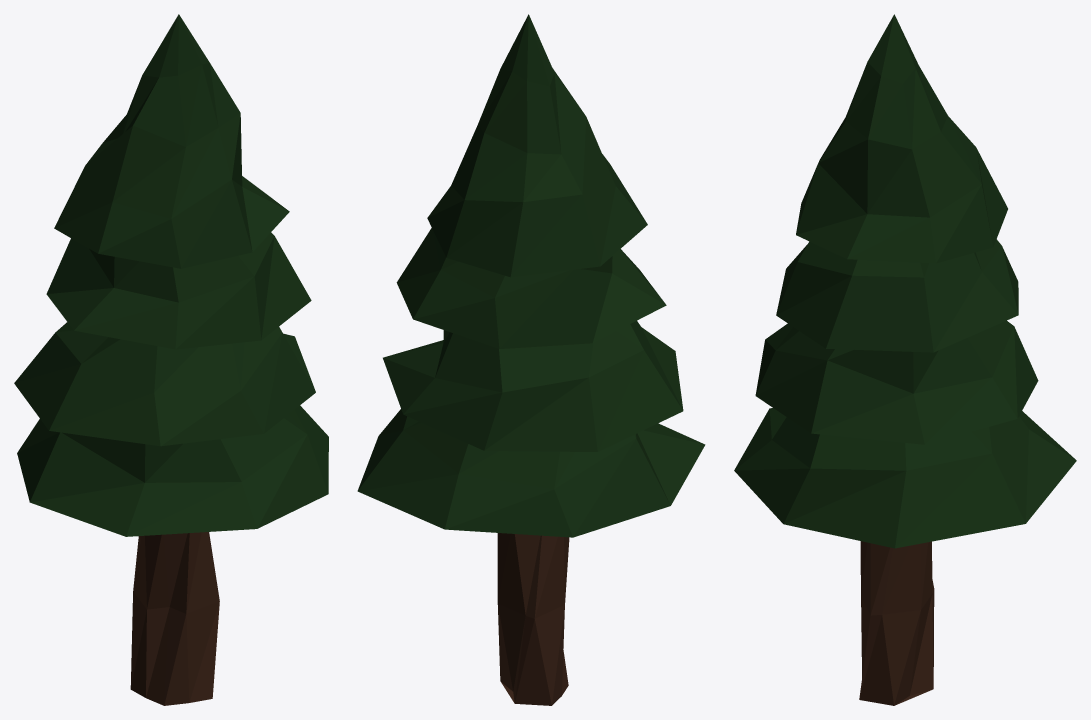
File: Dandelion_Sapin_Normal.FBX
The picture shows the model from 3 angles, left to right: view 1: azimuth 30°, elevation 25°; view 2: azimuth 150°, elevation 25°; view 3: azimuth 270°, elevation 25°; orthographic projection.
Parts seen in each view (by area): view 1: Cylinder074; view 2: Cylinder074; view 3: Cylinder074.
Boxes of the visible parts, box(x1,y1,x2,y2) form: Cylinder074: box(14, 14, 328, 705); Cylinder074: box(357, 14, 705, 705); Cylinder074: box(734, 14, 1076, 705).
Size of the model in its own units: 480 by 1047 by 480.
